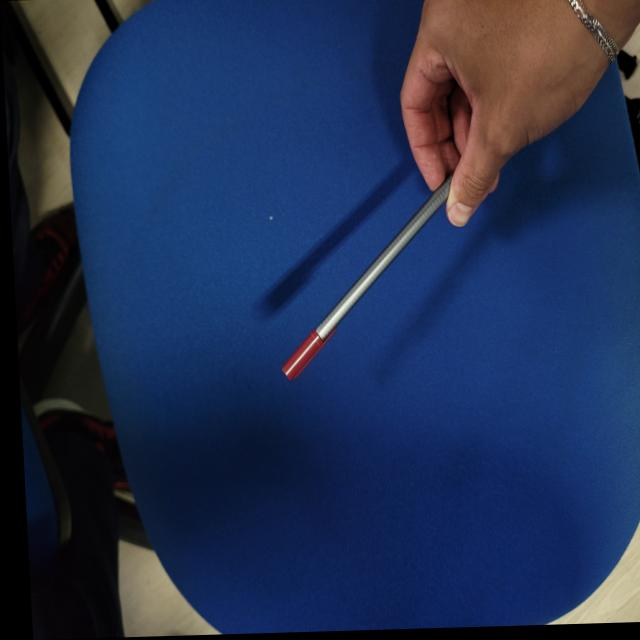caneta: (256, 181, 445, 439)
